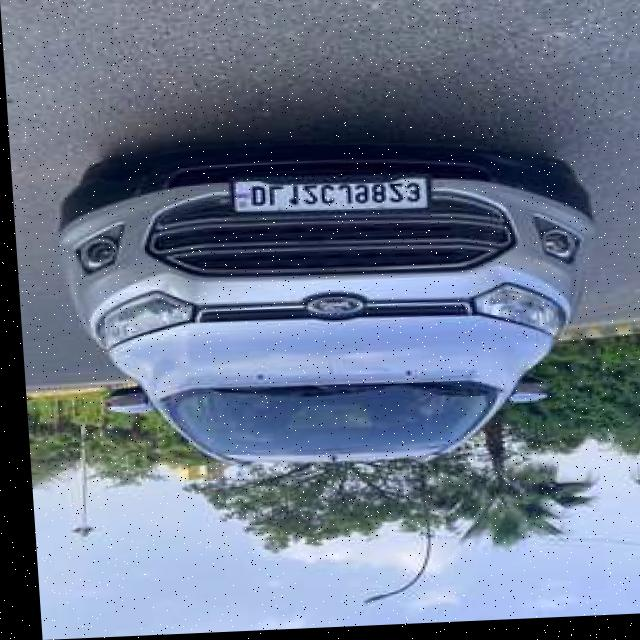plate: (227, 177, 430, 219)
